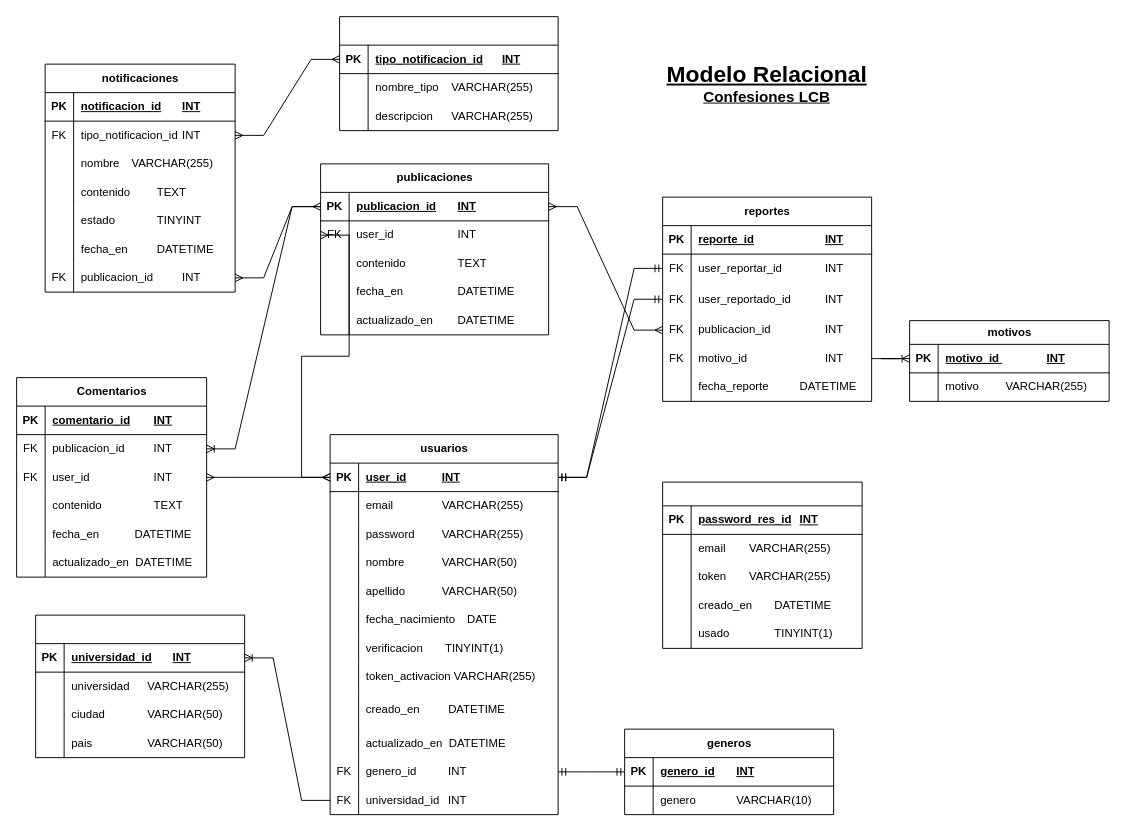
The diagram is 1126 pixels wide and 831 high, and some of its shapes have lost their labels. Here are the shapes that lost their labels. From the top down, the box of each, then its label:
(339, 16, 558, 131): tipos_notificaciones
(662, 481, 862, 648): password_resets
(35, 614, 245, 758): universidades
